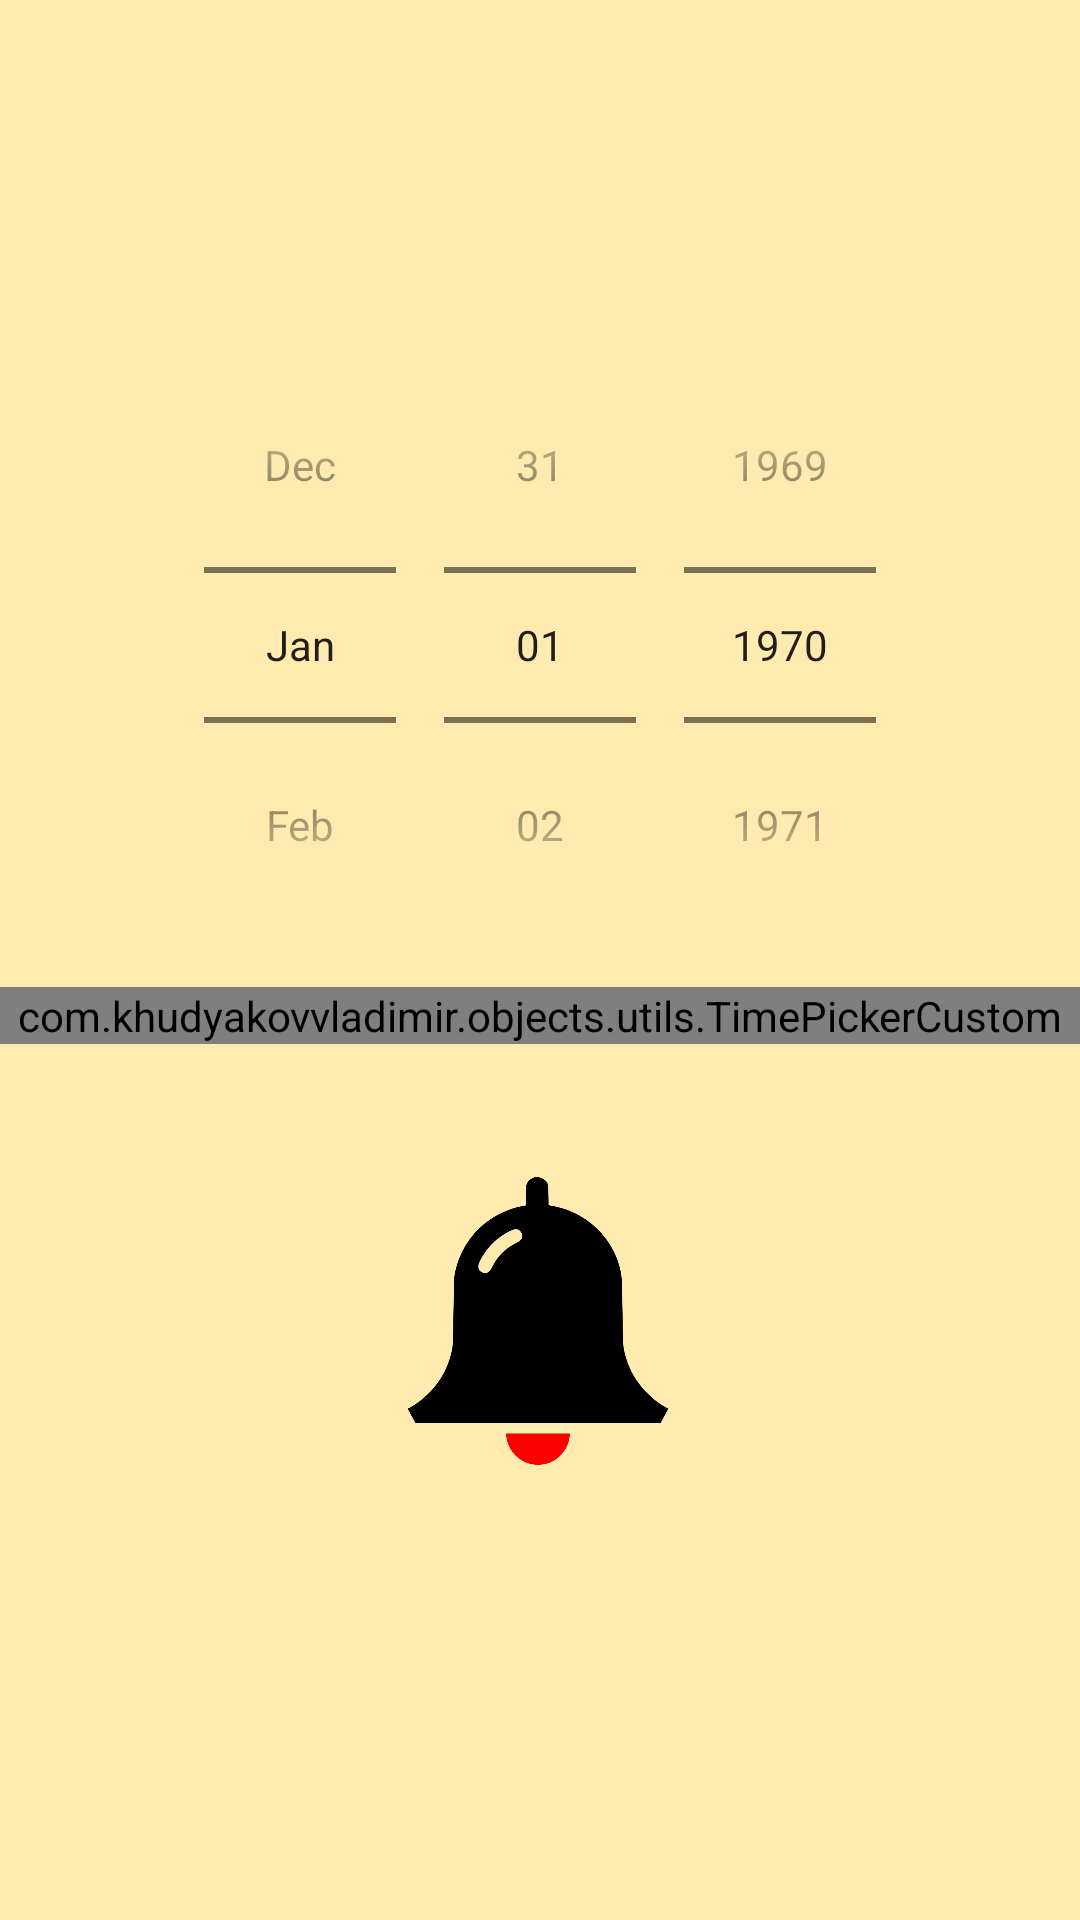

Screen size 1080 × 1920. Icon name, then its box in pixels as {"x1": x1, "y1": y1, "x2": x2, "y2": y2}:
remind: {"x1": 408, "y1": 1177, "x2": 668, "y2": 1465}
